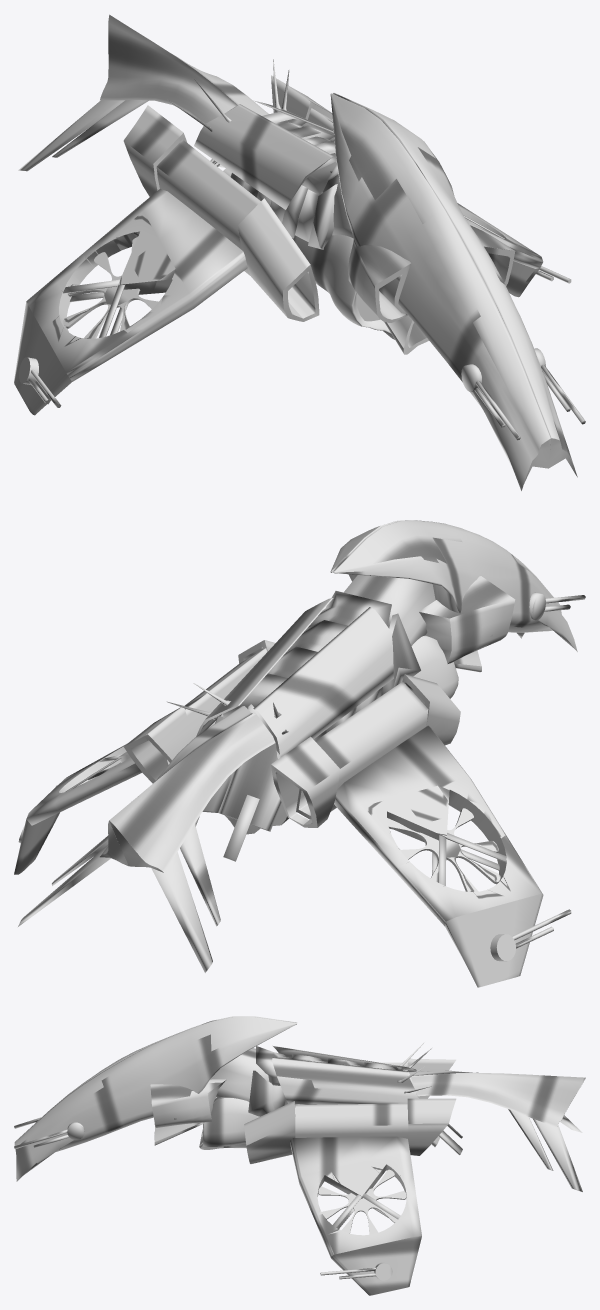
The model's file is Ship_v3.obj.
The picture shows the model from 3 angles, top to bottom: view 1: azimuth 30°, elevation 25°; view 2: azimuth 150°, elevation 25°; view 3: azimuth 270°, elevation 25°; orthographic projection. The views are drawn at different scales.
Visible parts, largest first — view 1: WingRight, Head, Tail, PannelRight, Spine, Air_Entries, Under, WingLeft, PropellerLeft, Front_Turret_Right, Turrets_2, Front_Turret_Left (+1 smaller); view 2: WingRight, Tail, Head, PannelRight, WingLeft, Spine, Air_Entries, Rear_Hider_Right, PannelLeft, Under, PropellerLeft, Turrets_2 (+1 smaller); view 3: WingLeft, Head, Tail, PannelLeft, Spine, Air_Entries, Under, PropellerRight, PannelRight, WingRight, Turrets, Front_Turret_Left.
Boxes of the visible parts, <box> form: WingRight: <box>14,105,319,415</box>; Head: <box>330,93,577,490</box>; Tail: <box>18,14,268,171</box>; PannelRight: <box>167,79,333,209</box>; Spine: <box>230,111,353,249</box>; Air_Entries: <box>348,225,515,354</box>; Under: <box>223,168,394,339</box>; WingLeft: <box>271,75,543,297</box>; PropellerLeft: <box>63,237,158,338</box>; Front_Turret_Right: <box>461,364,520,440</box>; Turrets_2: <box>19,357,61,407</box>; Front_Turret_Left: <box>534,348,585,424</box>; WingRight: <box>271,674,543,987</box>; Tail: <box>18,706,275,972</box>; Head: <box>330,520,577,651</box>; PannelRight: <box>253,607,393,758</box>; WingLeft: <box>14,640,275,874</box>; Spine: <box>223,575,435,740</box>; Air_Entries: <box>419,576,515,672</box>; Rear_Hider_Right: <box>218,743,281,861</box>; PannelLeft: <box>167,598,333,736</box>; Under: <box>225,635,458,834</box>; PropellerLeft: <box>387,808,500,891</box>; Turrets_2: <box>490,909,571,961</box>; WingLeft: <box>244,1098,456,1295</box>; Head: <box>14,1016,297,1181</box>; Tail: <box>409,1070,585,1191</box>; PannelLeft: <box>272,1057,432,1104</box>; Spine: <box>210,1046,395,1116</box>; Air_Entries: <box>150,1079,226,1145</box>; Under: <box>199,1097,259,1149</box>; PropellerRight: <box>318,1169,406,1234</box>; PannelRight: <box>272,1042,432,1071</box>; WingRight: <box>381,1058,455,1098</box>; Turrets: <box>320,1262,392,1280</box>; Front_Turret_Left: <box>14,1122,84,1149</box>.
Bounding box in the file's own units: 1609 × 937 × 2397.
